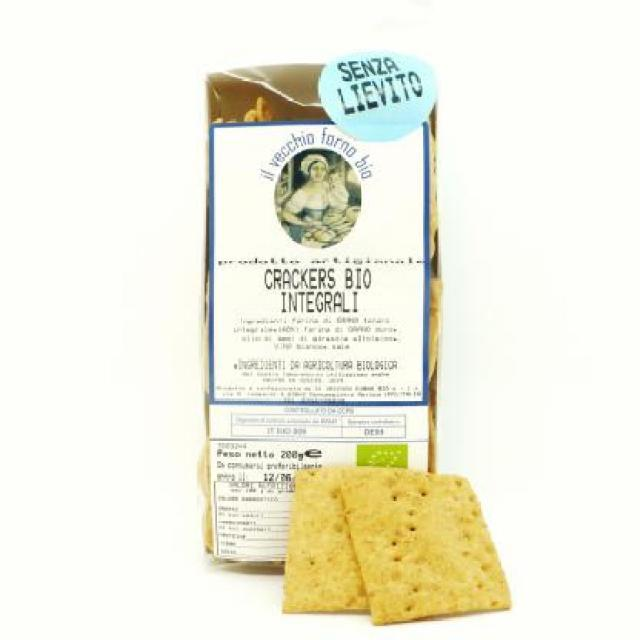Cracker: (187, 46, 473, 563)
Cracker packaged: (333, 469, 516, 625)
